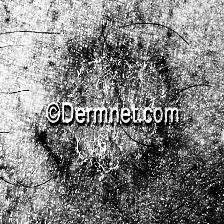Benign Marking or Mole: (68, 42, 170, 172)
